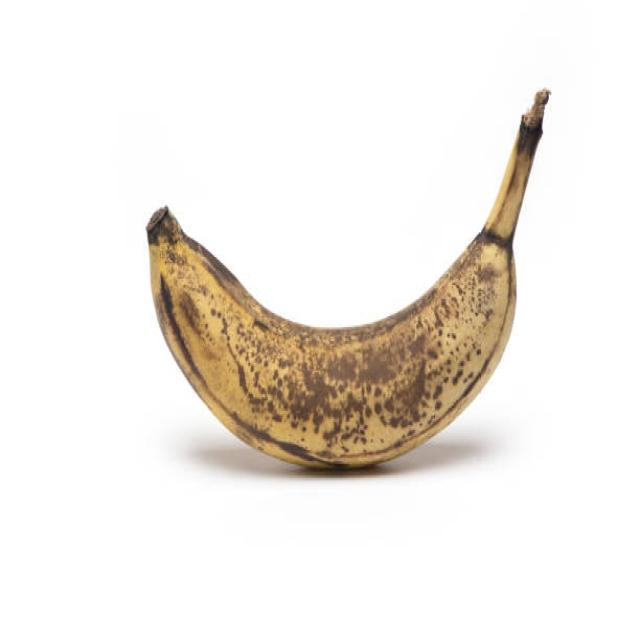overripe: (143, 116, 543, 479)
